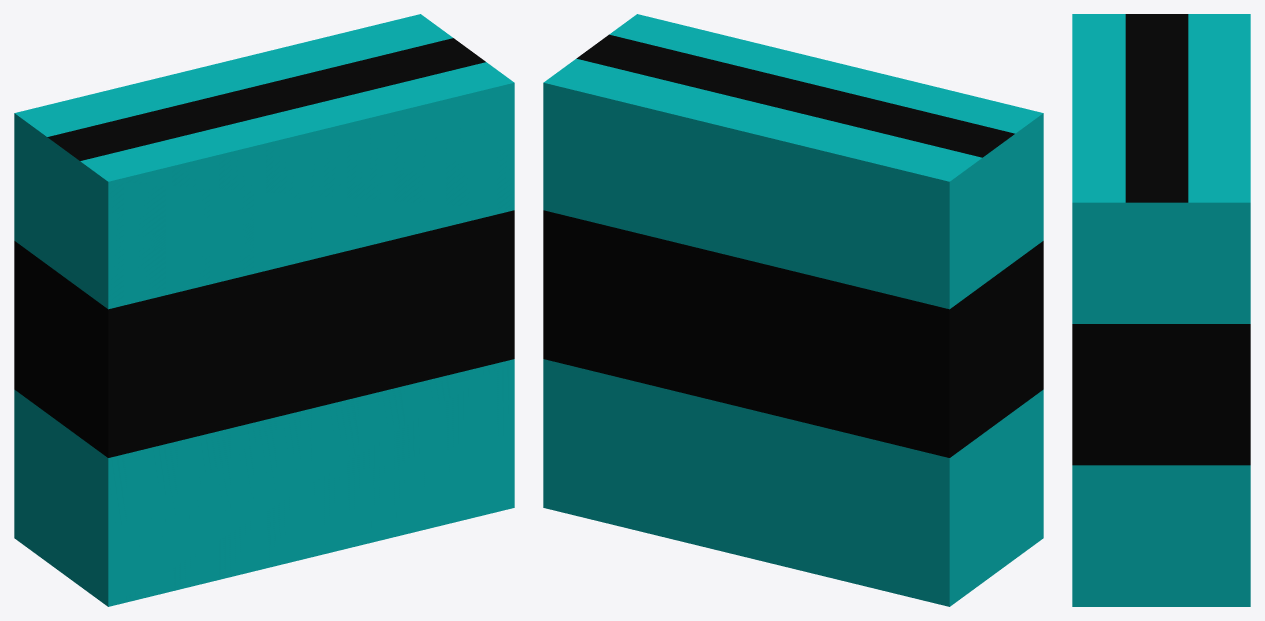
Rendered from WallTile.fbx.
3 views of the same model, side by side, from view 1: azimuth 30°, elevation 25°; view 2: azimuth 150°, elevation 25°; view 3: azimuth 270°, elevation 25° (orthographic). The views are drawn at different scales.
Visible parts, largest first — view 1: pCube1; view 2: pCube1; view 3: pCube1.
Boxes of the visible parts, x1,y1,x2,y2 form: pCube1: (14, 14, 514, 606); pCube1: (543, 14, 1043, 606); pCube1: (1072, 14, 1250, 606).
Size of the model in its own units: 2.5 by 2.5 by 1.
